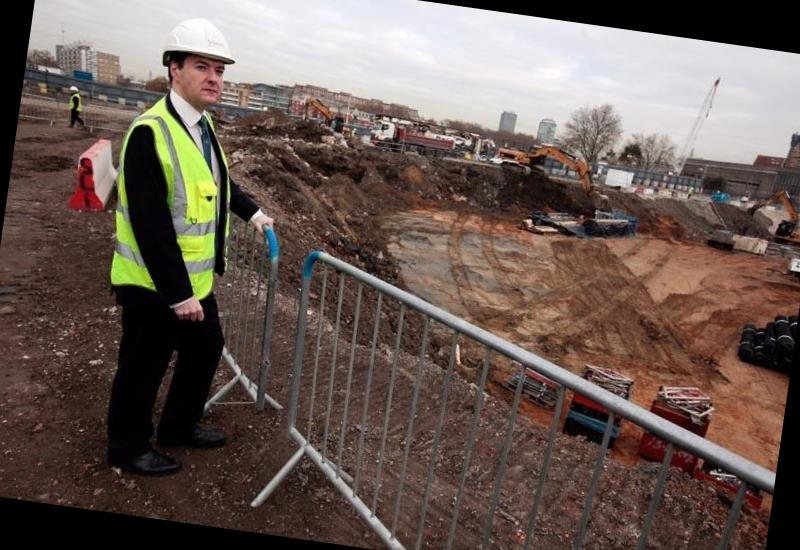Vest: (94, 103, 253, 325)
